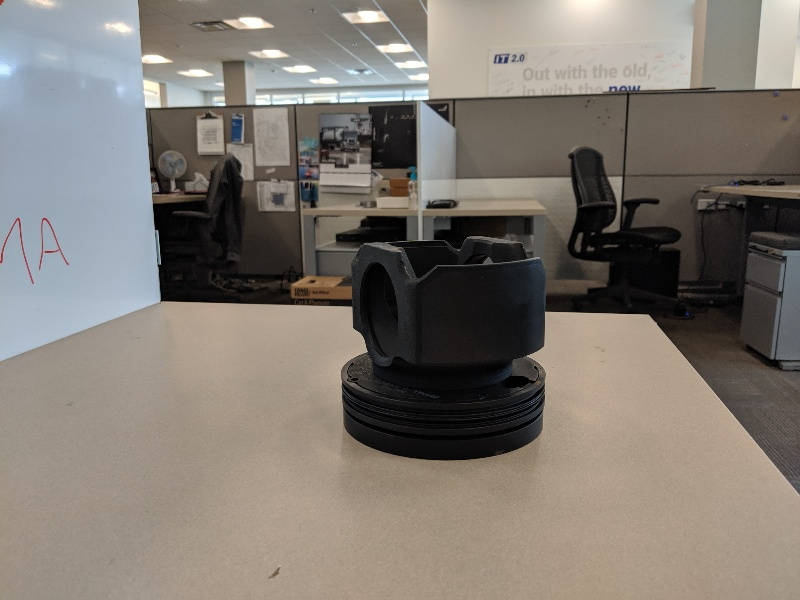piston: (334, 229, 556, 468)
